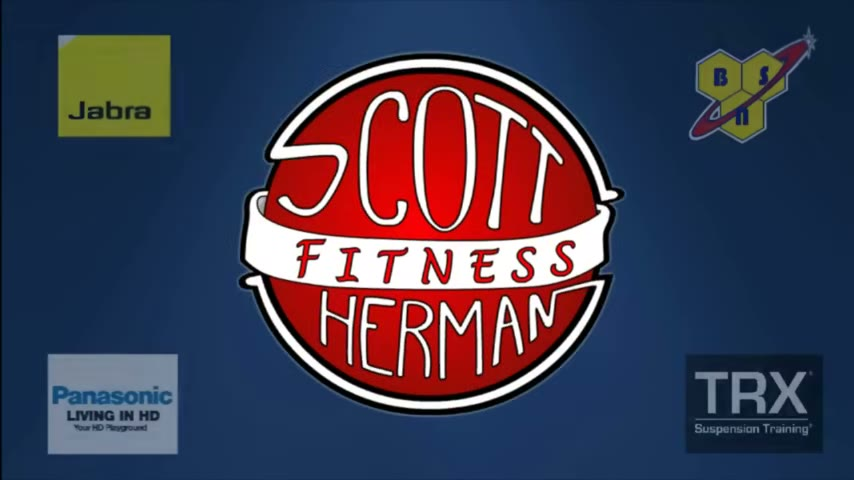barbell_plate_side: (234, 46, 363, 410), (520, 52, 621, 417), (235, 50, 358, 315)
